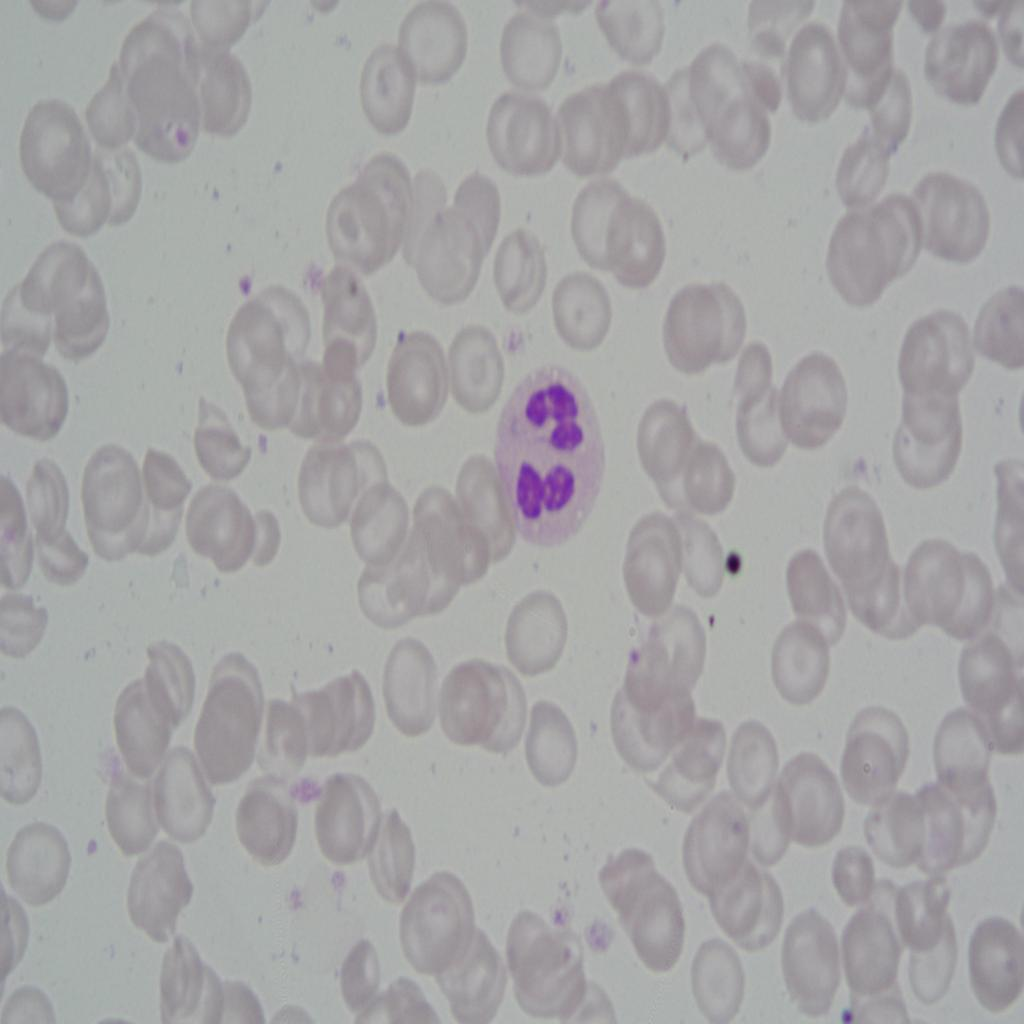Neutrofil: (494, 358, 606, 558)
Platelet: (170, 112, 197, 158), (716, 542, 741, 576), (237, 270, 255, 303)
